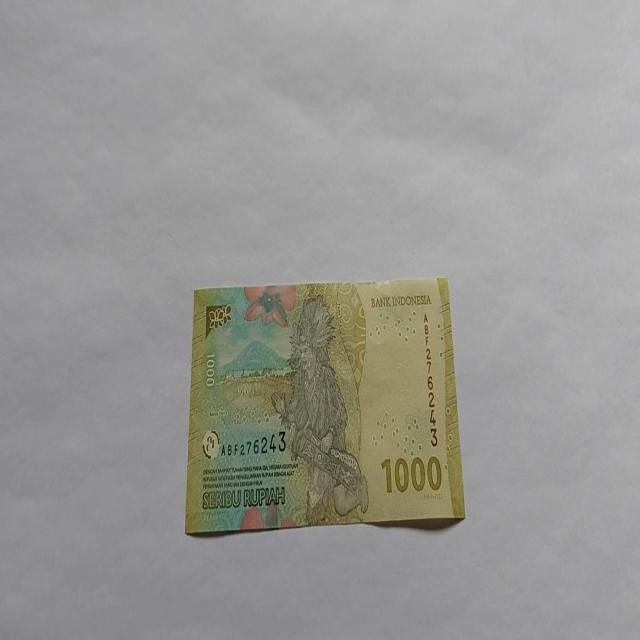seribu rupiah kertas: (184, 276, 466, 536)
